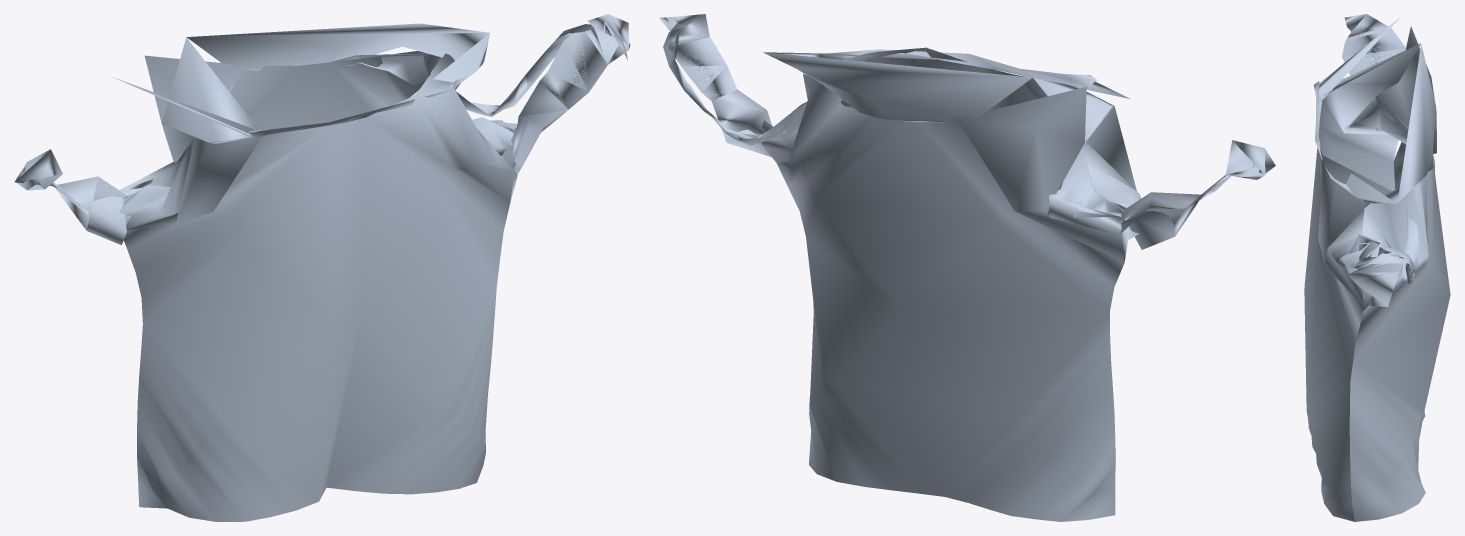
File: frame_018.glb
3 renders of one model, left to right at view 1: azimuth 30°, elevation 25°; view 2: azimuth 150°, elevation 25°; view 3: azimuth 270°, elevation 25°, orthographic. The views are drawn at different scales.
Parts seen in each view (by area): view 1: panel.front, panel.neck_band, panel.back, panel.sleeve.right, panel.sleeve.left; view 2: panel.back, panel.neck_band, panel.front, panel.sleeve.right, panel.sleeve.left; view 3: panel.back, panel.front, panel.neck_band, panel.sleeve.right, panel.sleeve.left.
Part boxes in pixels (left/top/right/bottom): panel.front: left=120, top=37, right=514, bottom=521; panel.neck_band: left=113, top=23, right=627, bottom=138; panel.back: left=119, top=51, right=517, bottom=218; panel.sleeve.right: left=503, top=14, right=630, bottom=173; panel.sleeve.left: left=14, top=149, right=129, bottom=245; panel.back: left=756, top=77, right=1124, bottom=521; panel.neck_band: left=663, top=29, right=1129, bottom=145; panel.front: left=791, top=47, right=1141, bottom=470; panel.sleeve.right: left=659, top=14, right=782, bottom=157; panel.sleeve.left: left=1120, top=140, right=1275, bottom=249; panel.back: left=1349, top=26, right=1450, bottom=521; panel.front: left=1304, top=43, right=1420, bottom=521; panel.neck_band: left=1313, top=17, right=1435, bottom=284; panel.sleeve.right: left=1344, top=234, right=1402, bottom=310; panel.sleeve.left: left=1342, top=14, right=1405, bottom=134.
Size of the model in its own units: 1.08 by 0.7828 by 0.2729.
